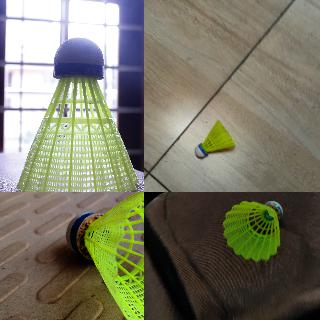shuttlecock: (16, 37, 139, 191), (65, 192, 143, 319), (222, 200, 282, 262), (195, 120, 233, 160)
